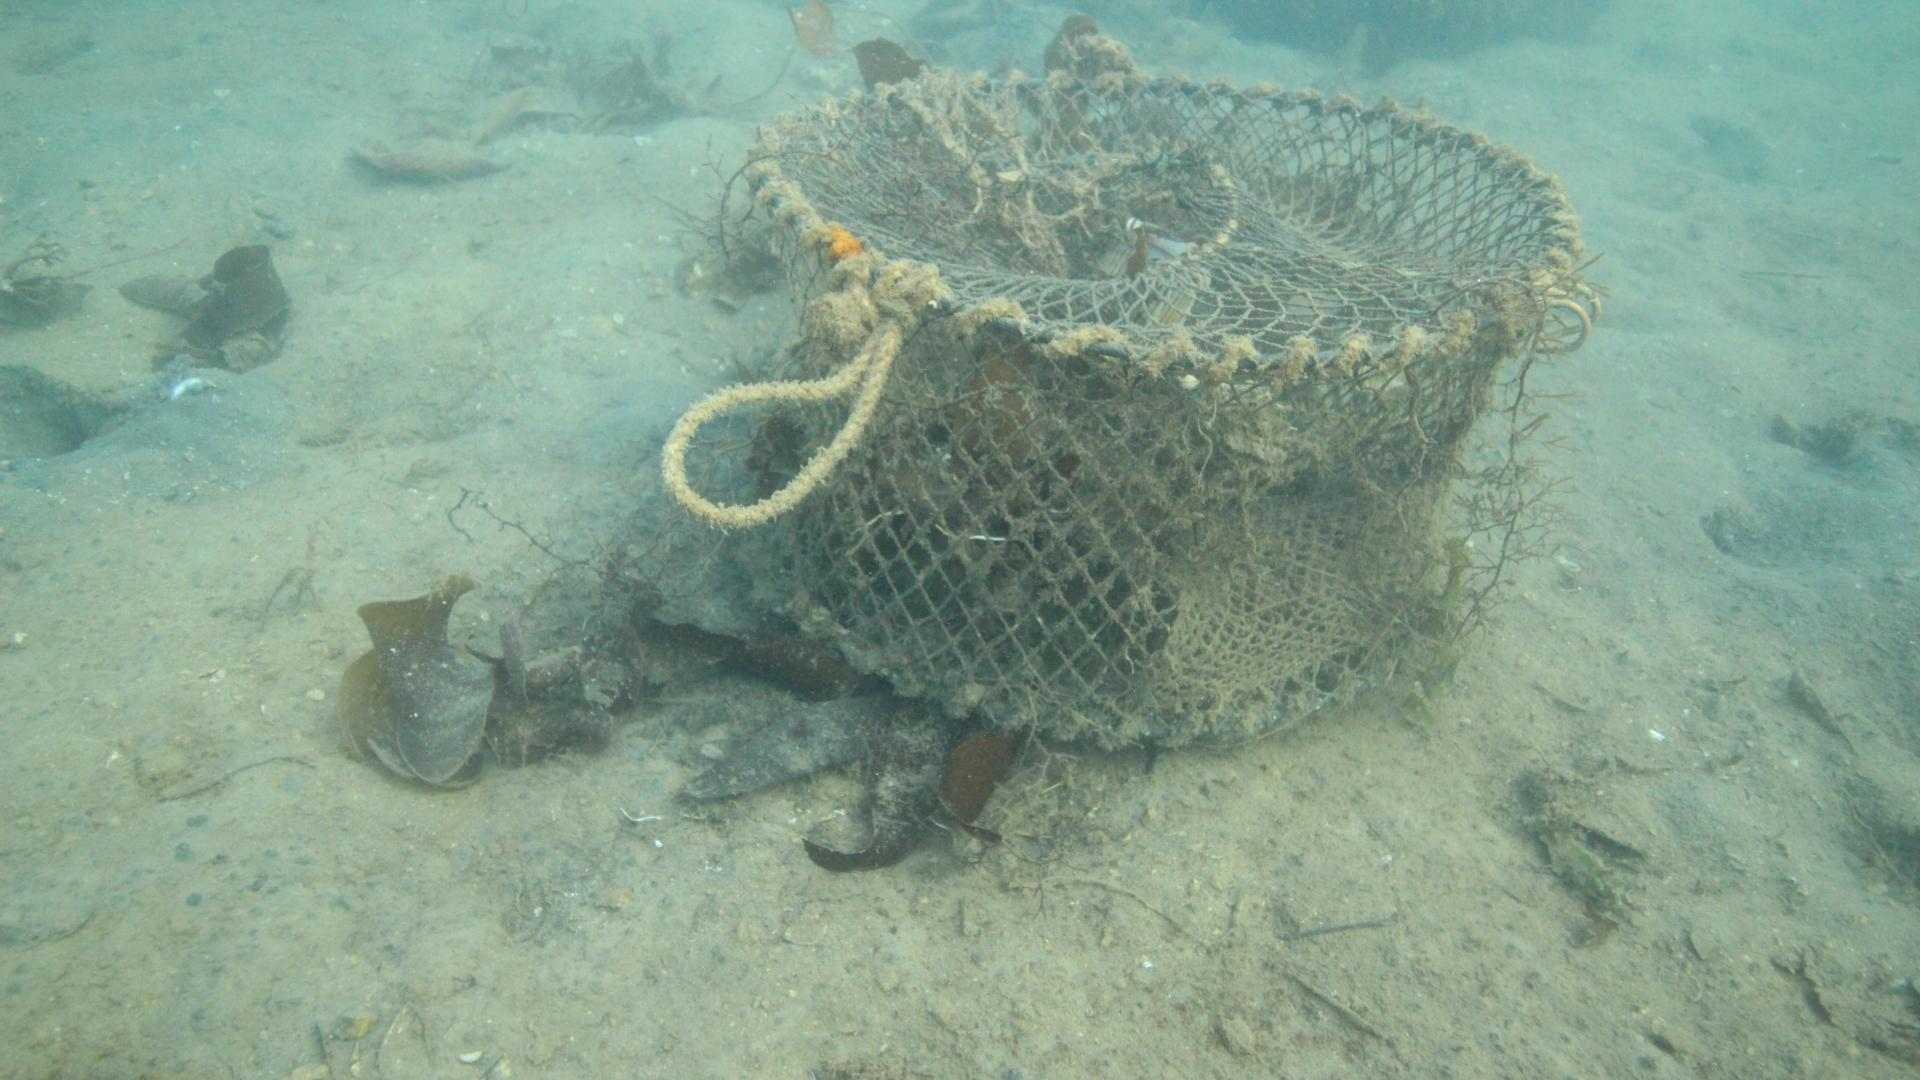circular fish trap: (736, 69, 1578, 752)
rope: (659, 320, 903, 530)
